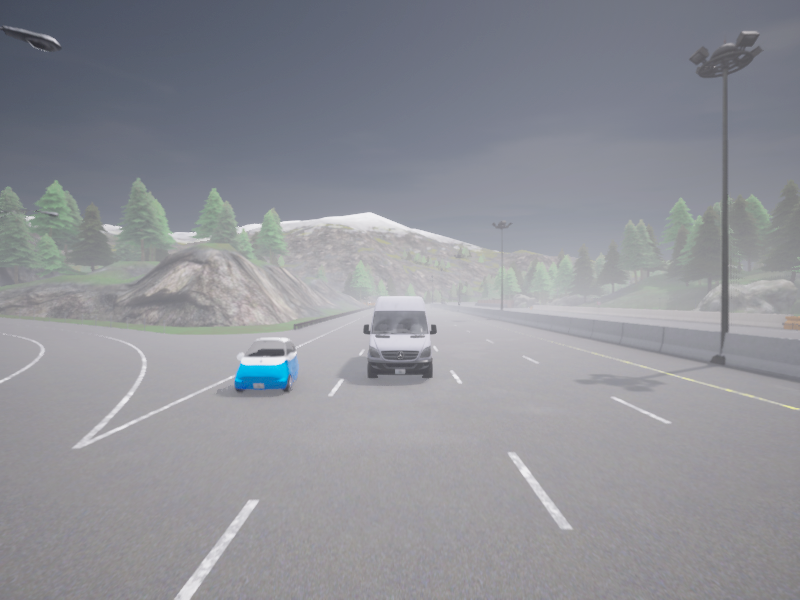vehicle: (363, 296, 436, 378), (234, 338, 298, 393), (593, 295, 605, 299), (442, 302, 446, 304), (458, 302, 460, 304)
